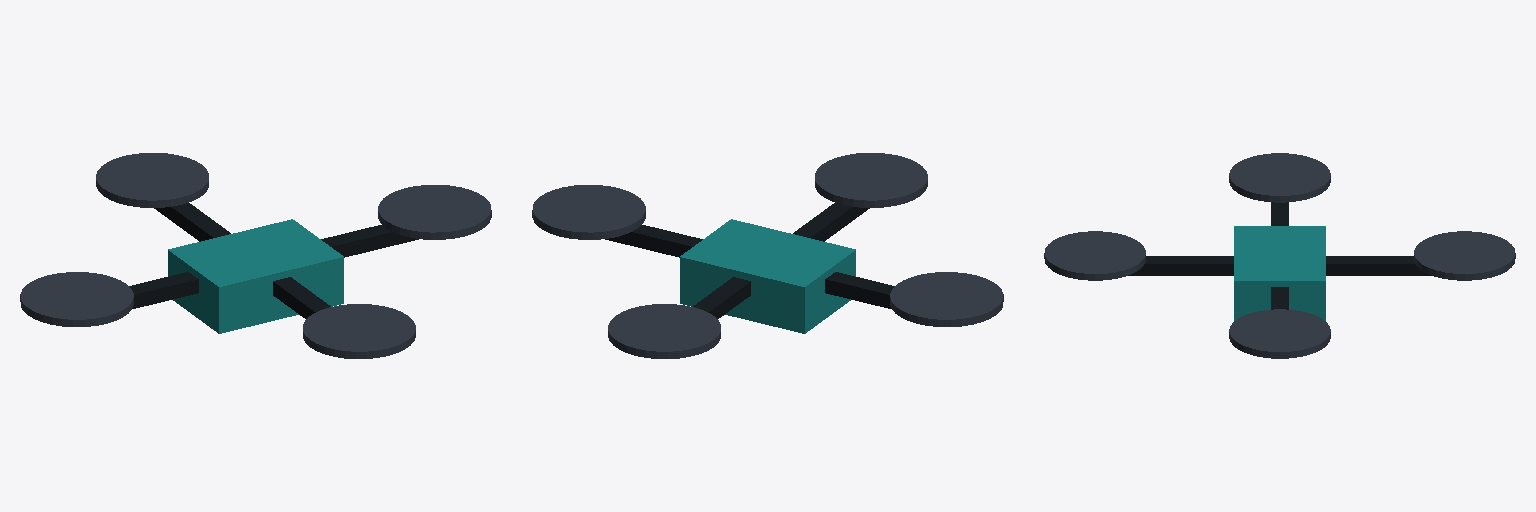
robot.urdf — free_flyer_box:
<?xml version="1.0"?>
<!--
  Experimental HolonomicSE3 free-flyer for Motus 2.1 pass-off (not PX4 / MAVLink).
  Single link (base==tip) with multi-visual quadrotor silhouette for Preview.
-->
<robot name="free_flyer_box">
  <link name="body">
    <inertial>
      <mass value="0.8"/>
      <inertia ixx="0.002" ixy="0" ixz="0" iyy="0.002" iyz="0" izz="0.003"/>
    </inertial>
    <!-- Collision hull (planning) -->
    <collision name="hull">
      <origin xyz="0 0 0" rpy="0 0 0"/>
      <geometry>
        <box size="0.22 0.22 0.08"/>
      </geometry>
    </collision>
    <!-- Central body -->
    <visual name="fuselage">
      <origin xyz="0 0 0" rpy="0 0 0"/>
      <geometry>
        <box size="0.14 0.10 0.05"/>
      </geometry>
      <material name="body_teal">
        <color rgba="0.15 0.55 0.55 1"/>
      </material>
    </visual>
    <!-- Arms -->
    <visual name="arm_px">
      <origin xyz="0.12 0 0.01" rpy="0 0 0"/>
      <geometry>
        <box size="0.16 0.02 0.015"/>
      </geometry>
      <material name="arm_dark">
        <color rgba="0.12 0.14 0.16 1"/>
      </material>
    </visual>
    <visual name="arm_nx">
      <origin xyz="-0.12 0 0.01" rpy="0 0 0"/>
      <geometry>
        <box size="0.16 0.02 0.015"/>
      </geometry>
      <material name="arm_dark">
        <color rgba="0.12 0.14 0.16 1"/>
      </material>
    </visual>
    <visual name="arm_py">
      <origin xyz="0 0.12 0.01" rpy="0 0 0"/>
      <geometry>
        <box size="0.02 0.16 0.015"/>
      </geometry>
      <material name="arm_dark">
        <color rgba="0.12 0.14 0.16 1"/>
      </material>
    </visual>
    <visual name="arm_ny">
      <origin xyz="0 -0.12 0.01" rpy="0 0 0"/>
      <geometry>
        <box size="0.02 0.16 0.015"/>
      </geometry>
      <material name="arm_dark">
        <color rgba="0.12 0.14 0.16 1"/>
      </material>
    </visual>
    <!-- Rotors -->
    <visual name="rotor_px">
      <origin xyz="0.20 0 0.022" rpy="0 0 0"/>
      <geometry>
        <cylinder radius="0.055" length="0.008"/>
      </geometry>
      <material name="rotor">
        <color rgba="0.25 0.28 0.32 1"/>
      </material>
    </visual>
    <visual name="rotor_nx">
      <origin xyz="-0.20 0 0.022" rpy="0 0 0"/>
      <geometry>
        <cylinder radius="0.055" length="0.008"/>
      </geometry>
      <material name="rotor">
        <color rgba="0.25 0.28 0.32 1"/>
      </material>
    </visual>
    <visual name="rotor_py">
      <origin xyz="0 0.20 0.022" rpy="0 0 0"/>
      <geometry>
        <cylinder radius="0.055" length="0.008"/>
      </geometry>
      <material name="rotor">
        <color rgba="0.25 0.28 0.32 1"/>
      </material>
    </visual>
    <visual name="rotor_ny">
      <origin xyz="0 -0.20 0.022" rpy="0 0 0"/>
      <geometry>
        <cylinder radius="0.055" length="0.008"/>
      </geometry>
      <material name="rotor">
        <color rgba="0.25 0.28 0.32 1"/>
      </material>
    </visual>
  </link>
</robot>

--- Render facts (derived) ---
Views: 3 orthographic renders of the robot side by side, from view 1: azimuth 30°, elevation 25°; view 2: azimuth 150°, elevation 25°; view 3: azimuth 270°, elevation 25°.
Model free_flyer_box with 1 links and 0 joints (none), rooted at body, posed every joint at zero.
Links seen in each view (by area): view 1: body; view 2: body; view 3: body.
Boxes of the visible links, x1,y1,x2,y2 form: body: [20, 153, 491, 358]; body: [532, 153, 1003, 358]; body: [1044, 153, 1515, 358].
Size in the robot's own frame: 0.51 by 0.51 by 0.051 metres.
Geometry: primitives only (box / cylinder / sphere), no mesh files.
